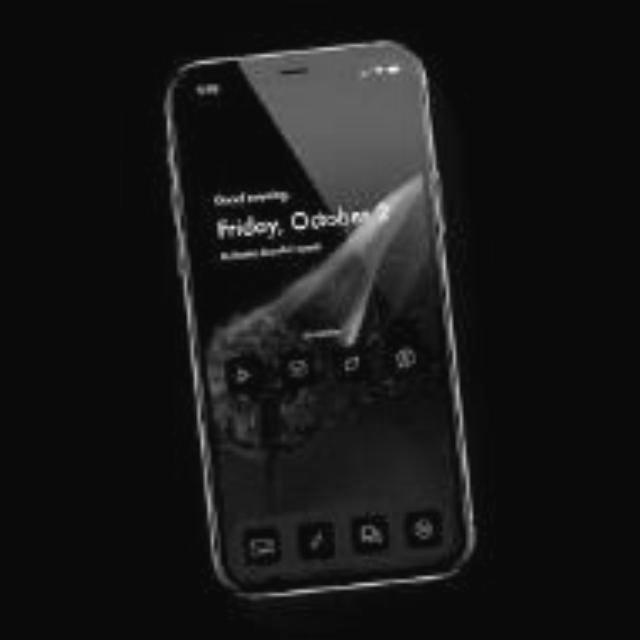fake: (136, 52, 508, 596)
